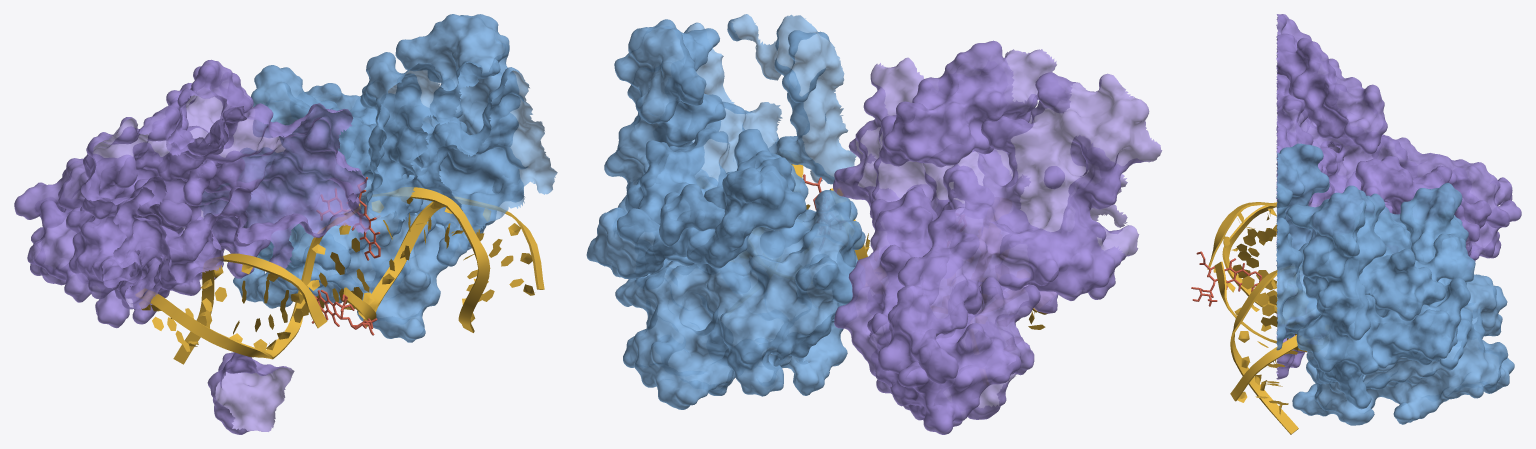
The model's file is complex_cutaway.glb.
3 renders of one model, left to right at view 1: azimuth 30°, elevation 25°; view 2: azimuth 150°, elevation 25°; view 3: azimuth 270°, elevation 25°, orthographic. The views are drawn at different scales.
Visible parts, largest first — view 1: complex_cutaway; view 2: complex_cutaway; view 3: complex_cutaway.
Part boxes in pixels (x1,y1,x2,y2): complex_cutaway: [14, 14, 557, 434]; complex_cutaway: [586, 14, 1162, 434]; complex_cutaway: [1191, 14, 1521, 434].
Size of the model in its own units: 0.3927 by 0.288 by 0.2682.
